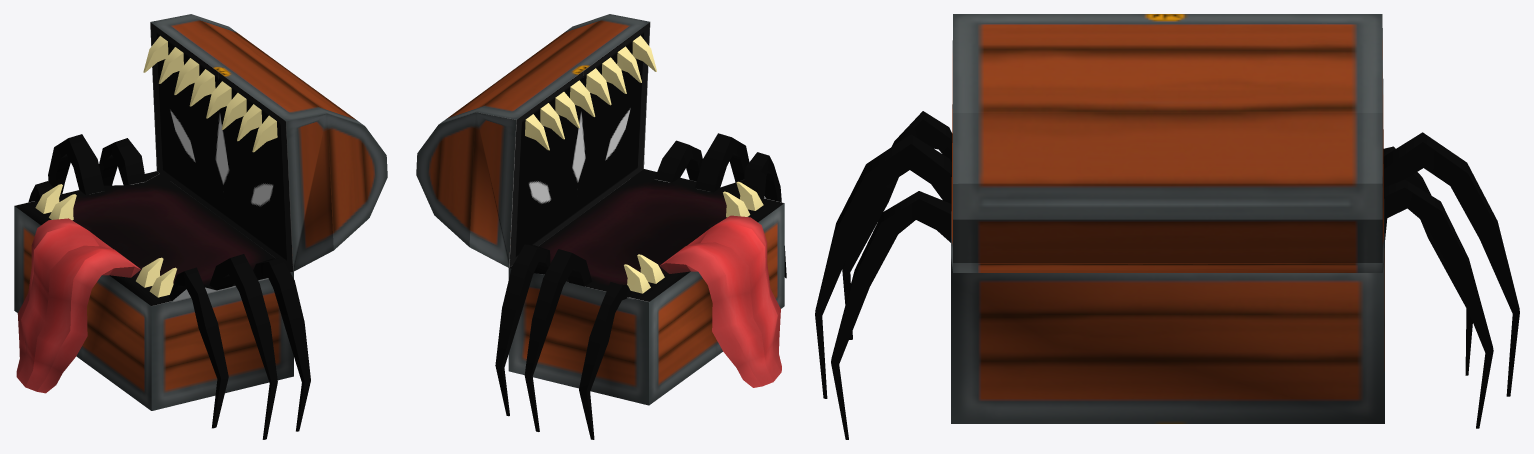
Rendered from cofrearana_000023.obj.
The picture shows the model from 3 angles, left to right: view 1: azimuth 30°, elevation 25°; view 2: azimuth 150°, elevation 25°; view 3: azimuth 270°, elevation 25°; orthographic projection. The views are drawn at different scales.
Visible parts, largest first — view 1: cofreArana:Mesh; view 2: cofreArana:Mesh; view 3: cofreArana:Mesh.
Boxes of the visible parts, <box> form: cofreArana:Mesh: <box>14,14,387,439</box>; cofreArana:Mesh: <box>416,14,786,439</box>; cofreArana:Mesh: <box>815,14,1519,439</box>.
Size of the model in its own units: 7.84 by 7.13 by 10.29.
